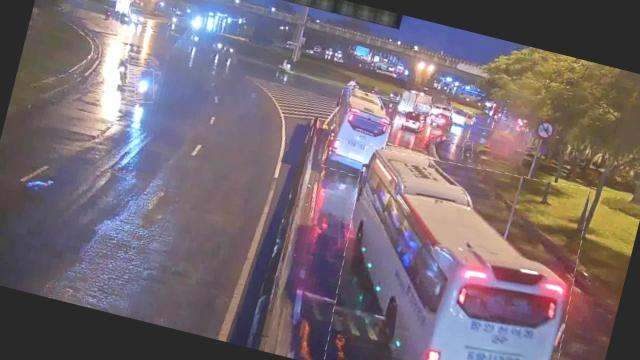Bike: (130, 67, 160, 106), (112, 56, 133, 86), (460, 140, 475, 162)
Bus: (315, 139, 599, 360), (322, 86, 398, 182)
Car: (427, 108, 454, 132), (449, 106, 474, 127)
